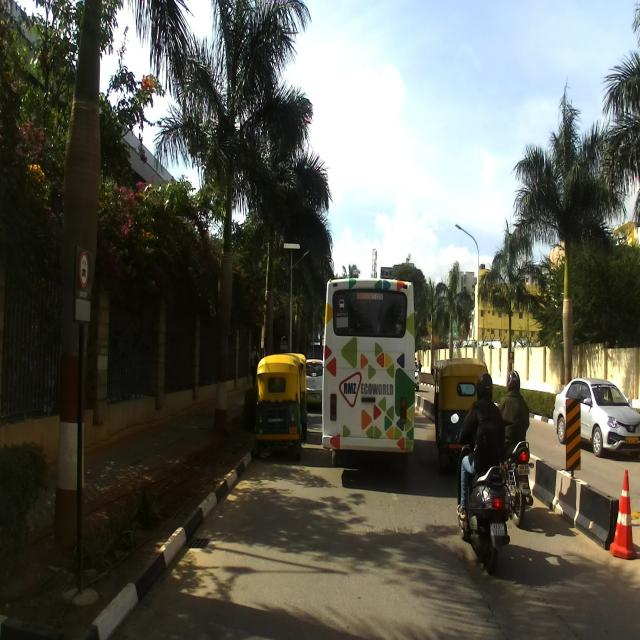autorickshaw: (430, 356, 490, 480), (253, 350, 302, 464)
bus: (322, 268, 417, 480)
car: (552, 377, 640, 458)
motorcycle: (501, 439, 535, 527)
scooter: (448, 412, 512, 574)
